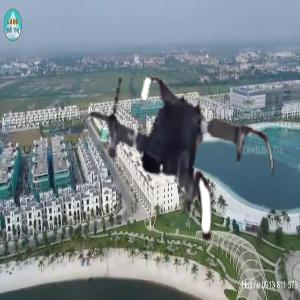drone: (66, 58, 280, 272)
